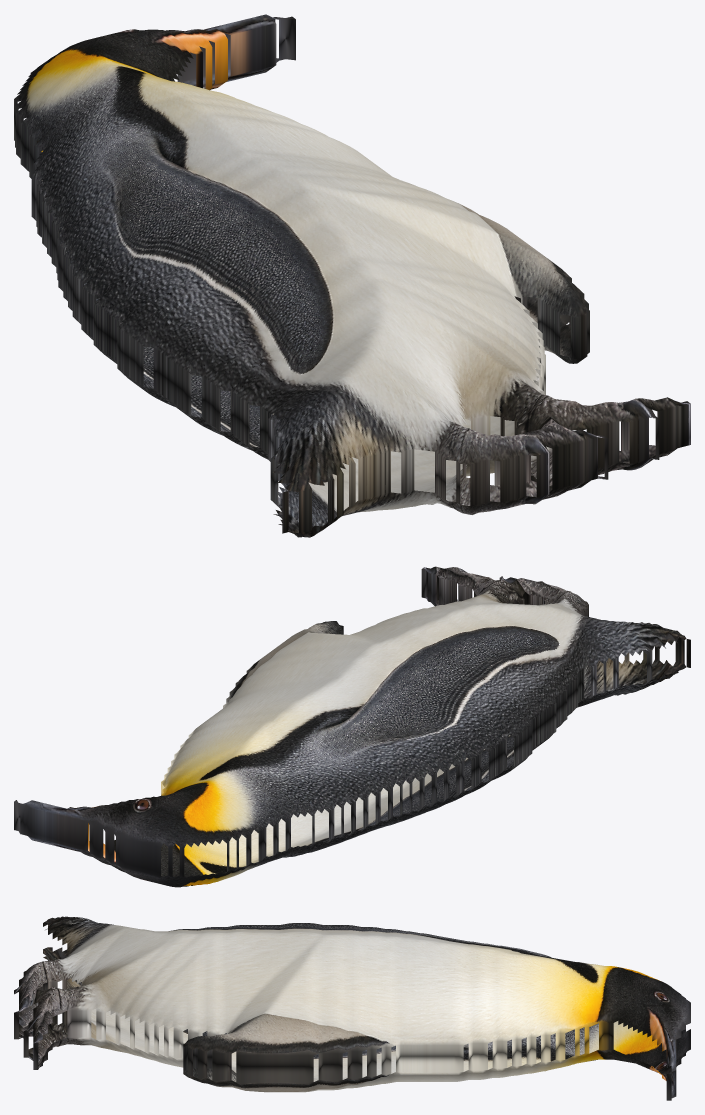
File: penguin.glb
3 renders of one model, top to bottom at view 1: azimuth 30°, elevation 25°; view 2: azimuth 150°, elevation 25°; view 3: azimuth 270°, elevation 25°, orthographic. The views are drawn at different scales.
Visible parts, largest first — view 1: penguin_obj; view 2: penguin_obj; view 3: penguin_obj.
Boxes of the visible parts, <box> form: penguin_obj: <box>14,14,690,537</box>; penguin_obj: <box>14,566,690,887</box>; penguin_obj: <box>14,916,690,1100</box>.
Bounding box in the file's own units: 1.01 × 0.44 × 1.87.
1 material, 1 textured.
